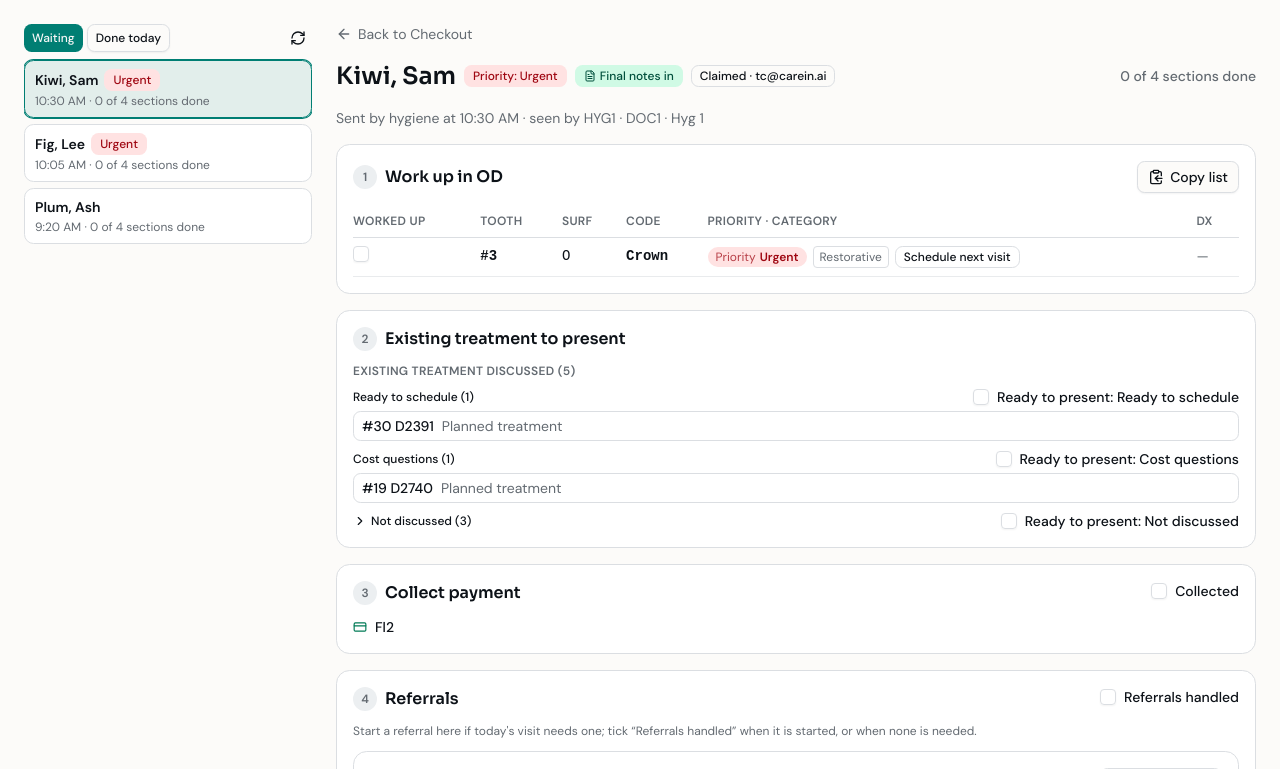
Test case: CO-1 polish 2 — Not discussed collapsed in the workup › remembers only for the current view: the next patient starts folded again, and nothing is stored
Expected: the heading "Kiwi, Sam" is shown, [336, 60, 456, 92]
Expected: the number of buttons with test id "workup-rail-row" is 3, [24, 60, 312, 118]; [24, 124, 312, 182]; [24, 188, 312, 244]
Click the button with test id "tc-existing-tx-toggle-not_discussed".
click(412, 521)  # box [353, 513, 471, 529]
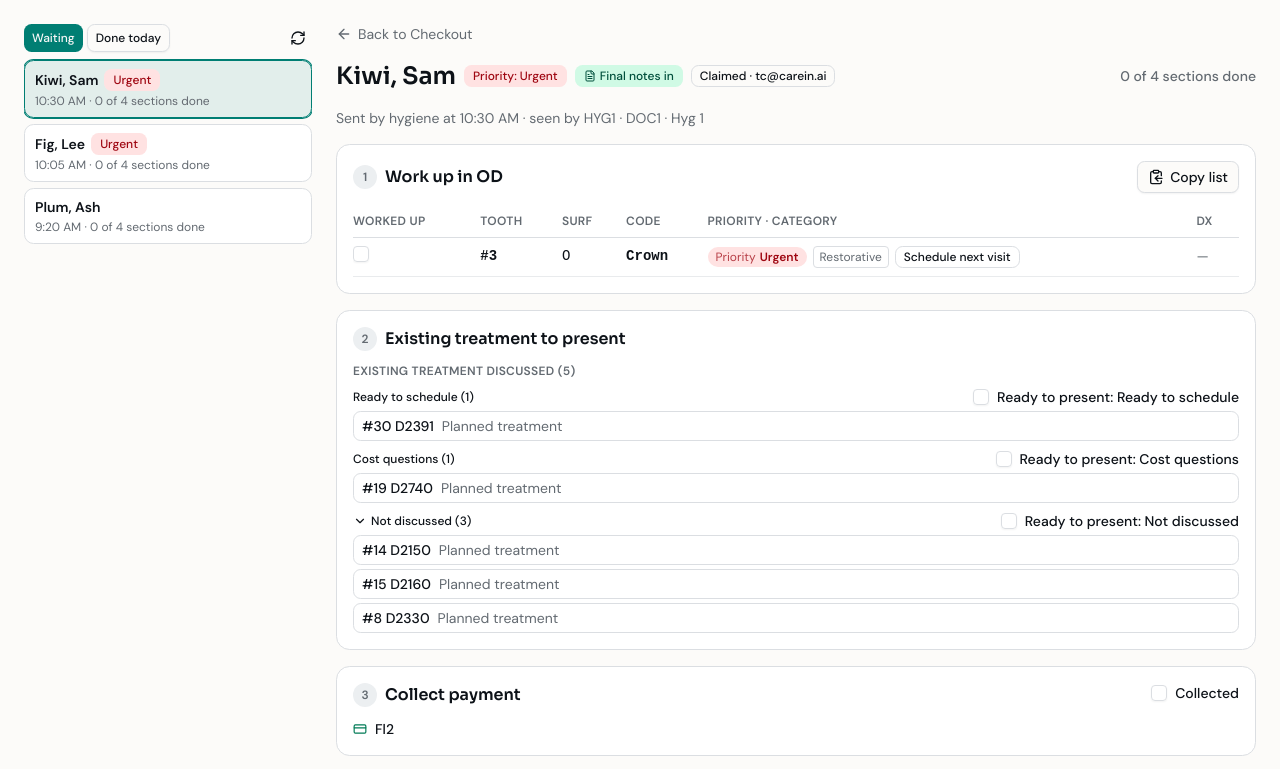
Now the button with test id "tc-existing-tx-toggle-not_discussed" is expanded, box [353, 513, 471, 529]
Click the button with test id "workup-rail-row" that starts with "Fig, Lee".
click(60, 144)  # box [24, 124, 312, 182]
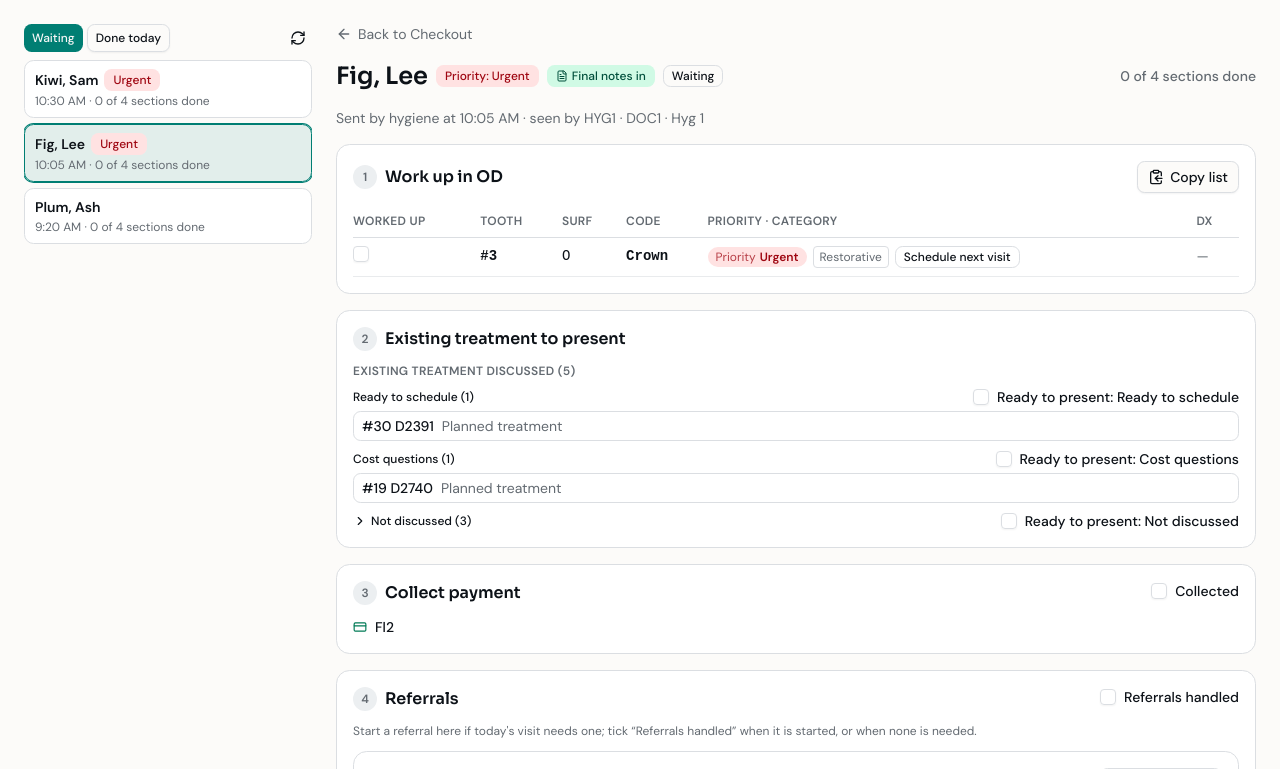
Now the heading with test id "workup-patient" reads "Fig, Lee", box [336, 61, 428, 91]
Now the button with test id "tc-existing-tx-toggle-not_discussed" is collapsed, box [353, 513, 471, 529]
